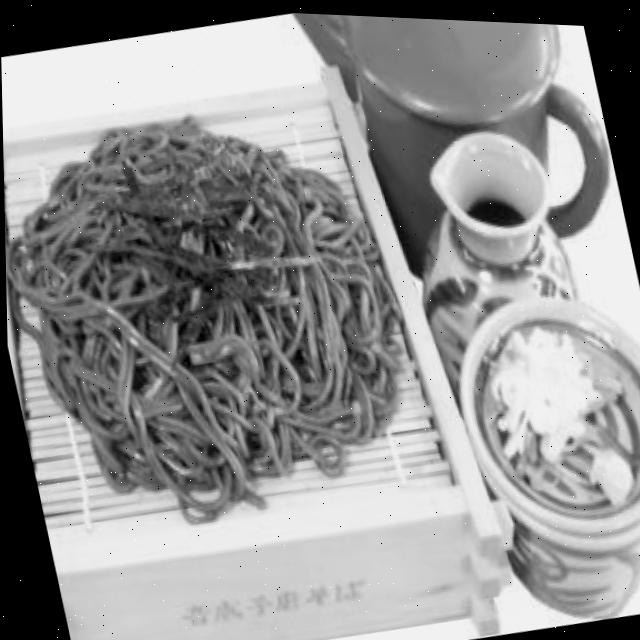面条主食: (0, 22, 538, 640)
